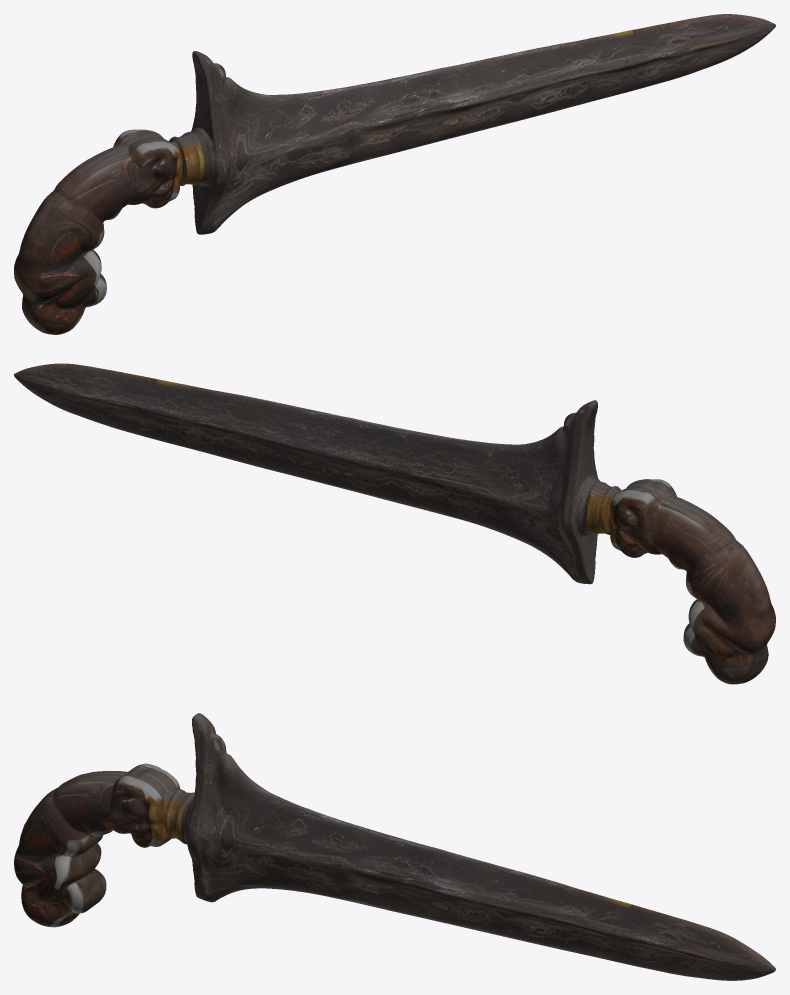
The model's file is keris-tripo.glb.
The picture shows the model from 3 angles, top to bottom: view 1: azimuth 30°, elevation 25°; view 2: azimuth 150°, elevation 25°; view 3: azimuth 330°, elevation 25°; orthographic projection.
Parts seen in each view (by area): view 1: tripo_node_e7263895-b62b-42f7-b48d-b95b9c46ab87; view 2: tripo_node_e7263895-b62b-42f7-b48d-b95b9c46ab87; view 3: tripo_node_e7263895-b62b-42f7-b48d-b95b9c46ab87.
Boxes of the visible parts, bbox=[...] form: tripo_node_e7263895-b62b-42f7-b48d-b95b9c46ab87: bbox=[14, 14, 775, 334]; tripo_node_e7263895-b62b-42f7-b48d-b95b9c46ab87: bbox=[14, 363, 775, 684]; tripo_node_e7263895-b62b-42f7-b48d-b95b9c46ab87: bbox=[14, 713, 775, 980].
Size of the model in its own units: 1 by 0.3083 by 0.0911.
1 material, 1 textured.
